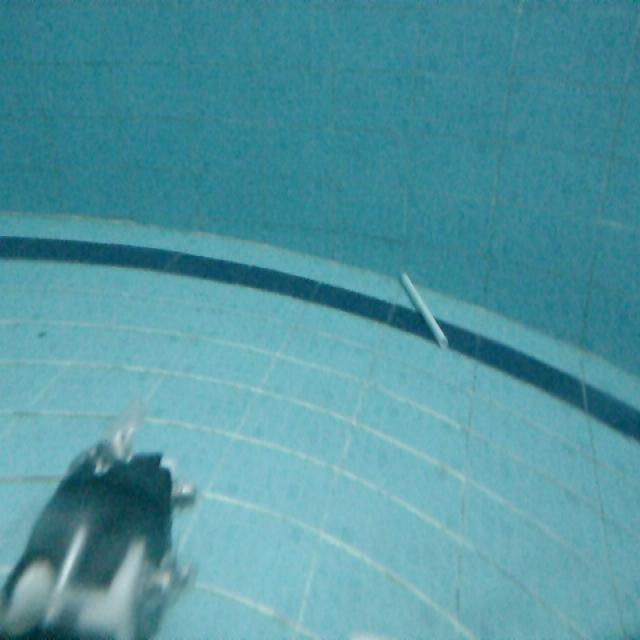Cube: (398, 267, 456, 359)
